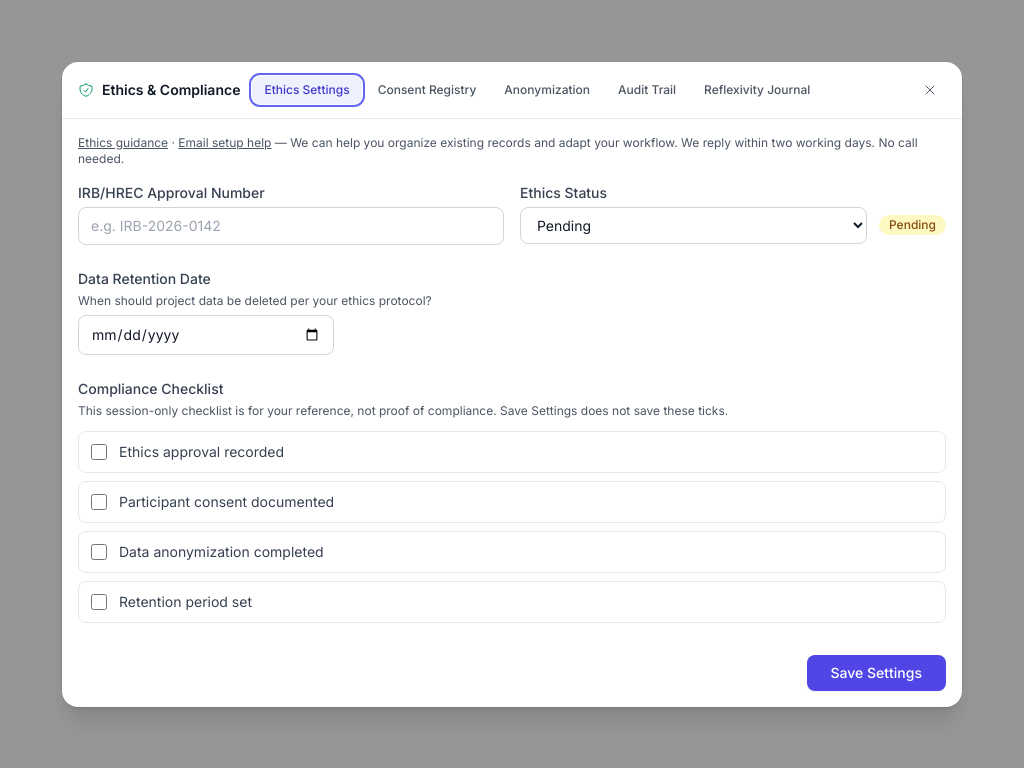
ethics panel truthful reads and teaching › offers persistent audit recovery for a malformed page without an invented empty log
Check: the button "Save Settings" is shown, box [807, 654, 946, 690]
Click the button "Audit Trail".
click(647, 90)  # box [606, 76, 688, 104]
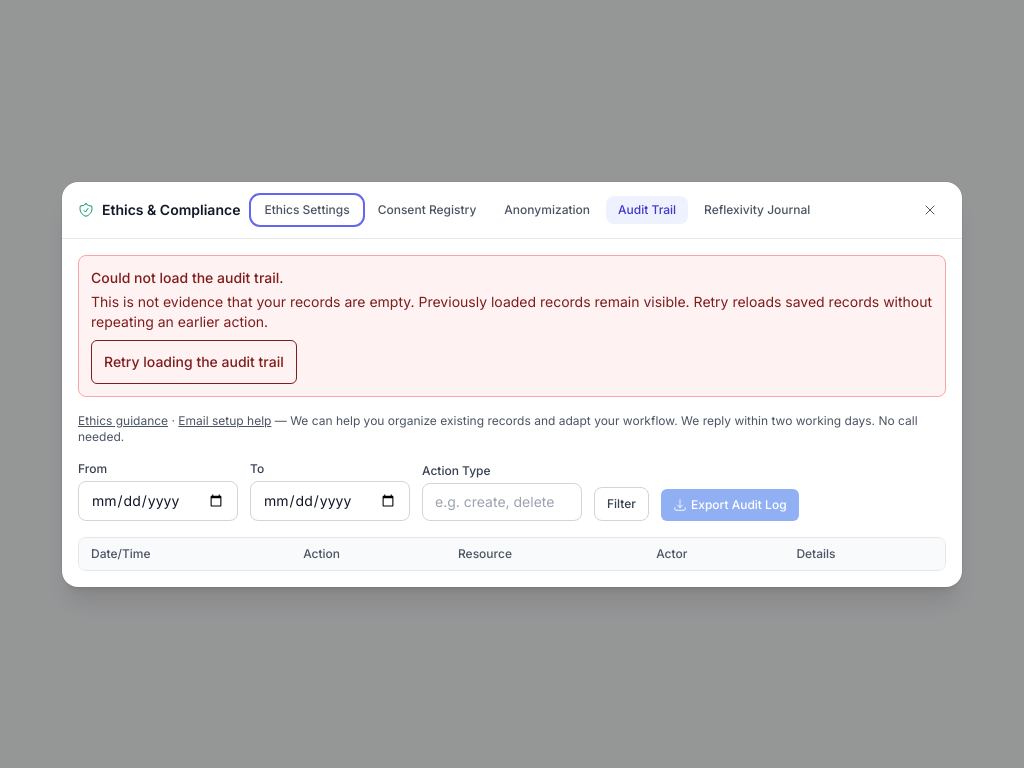
Check: the message shows "Could not load the audit trail", box [78, 254, 946, 396]
Click the button "Retry loading the audit trail".
click(194, 362)  # box [91, 340, 297, 384]
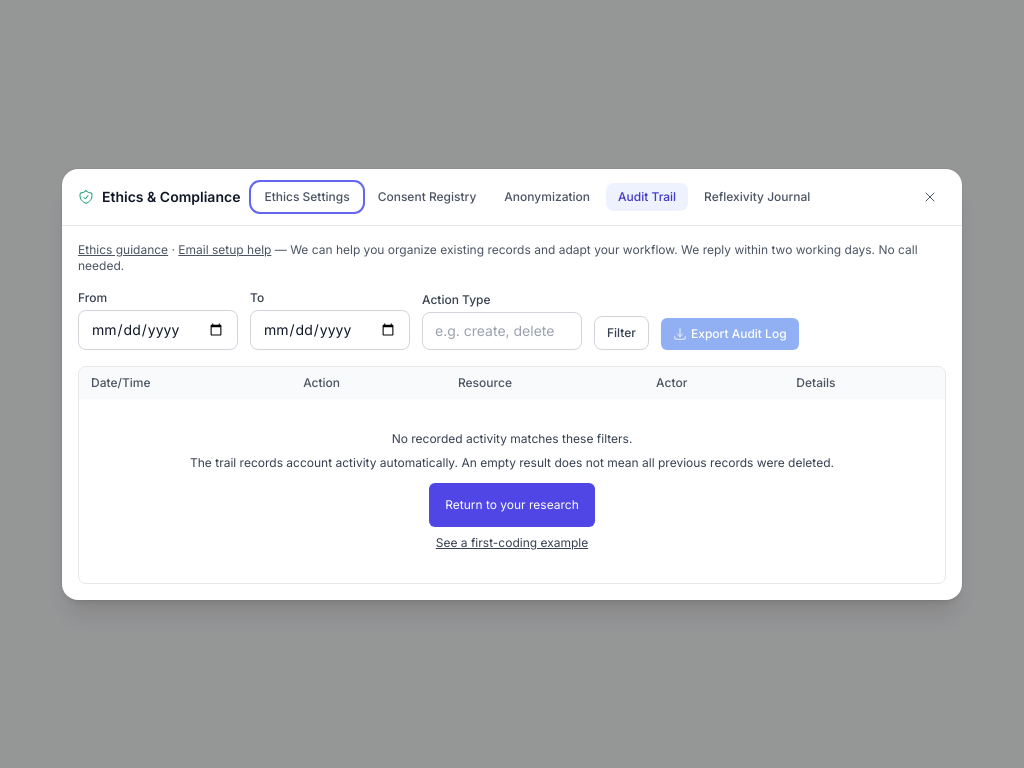
Check: the text "No recorded activity matches these filters." is shown, box [392, 430, 632, 446]
